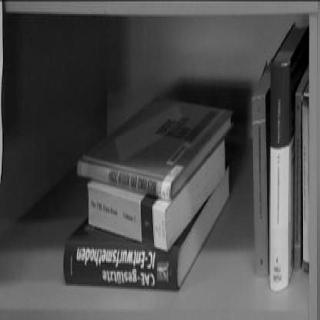book-spine: (75, 182, 180, 251), (62, 238, 181, 289), (269, 60, 291, 290), (74, 157, 176, 200), (251, 96, 269, 276), (293, 92, 302, 269), (303, 95, 309, 271)
